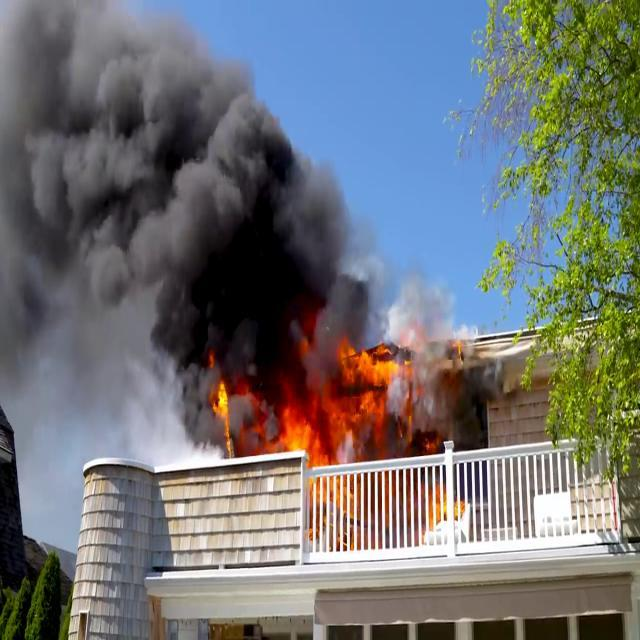Fire: (276, 321, 435, 476), (203, 360, 236, 463)
Smoke: (0, 28, 396, 382)
